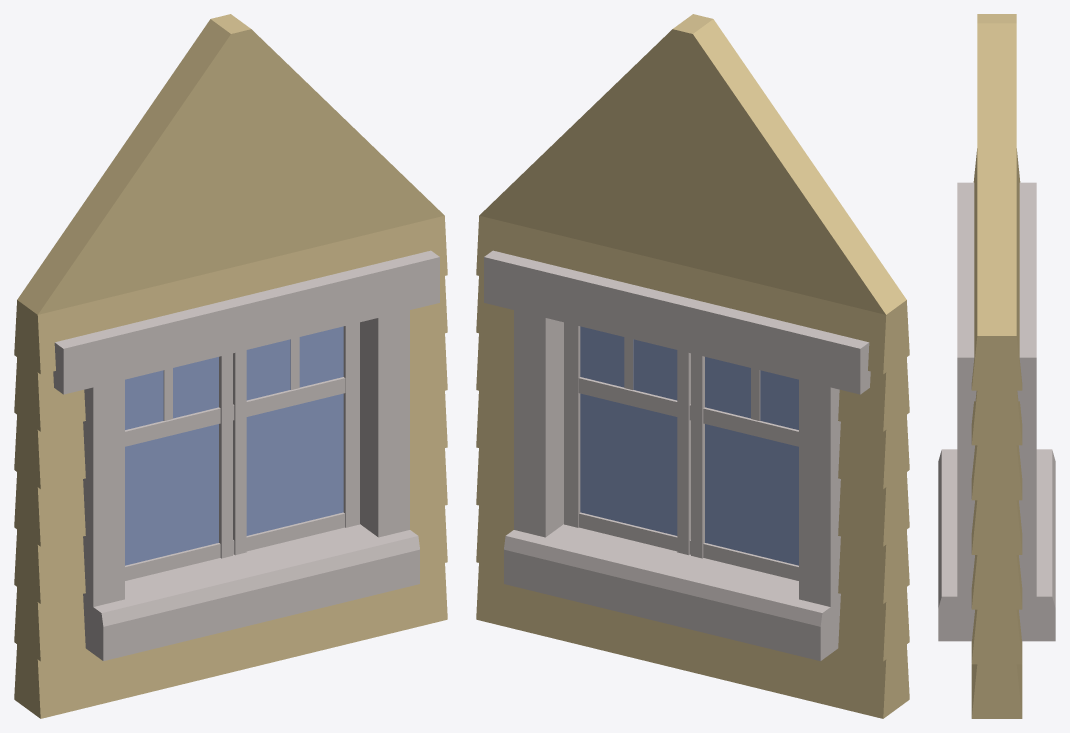
Rendered from Window02_house4.fbx.
3 views of the same model, side by side, from view 1: azimuth 30°, elevation 25°; view 2: azimuth 150°, elevation 25°; view 3: azimuth 270°, elevation 25° (orthographic). The views are drawn at different scales.
Visible parts, largest first — view 1: Window02_house04; view 2: Window02_house04; view 3: Window02_house04.
Part boxes in pixels (left/top/right/bottom): Window02_house04: left=14, top=14, right=447, bottom=718; Window02_house04: left=476, top=14, right=909, bottom=718; Window02_house04: left=938, top=14, right=1055, bottom=718.
Bounding box in the file's own units: 350 × 523 × 91.68.
